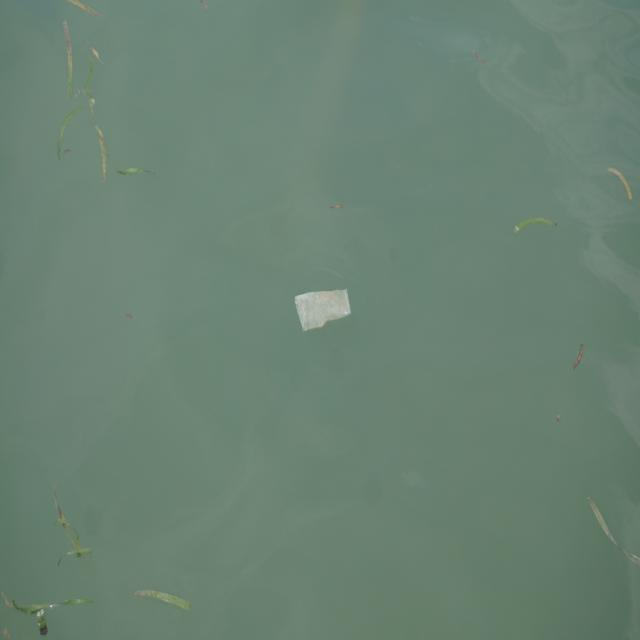Kantong Plastik: (293, 284, 355, 337)
